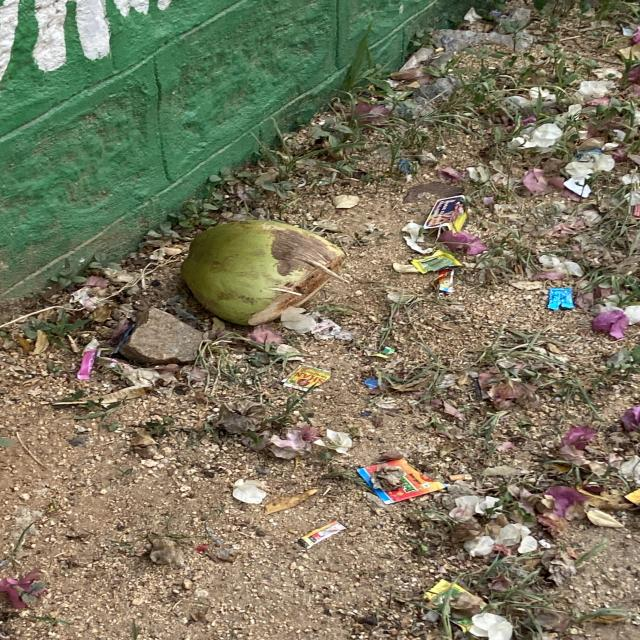biowaste: (180, 219, 345, 326)
wrapper: (357, 460, 445, 505), (423, 194, 467, 232), (297, 522, 346, 550), (282, 365, 330, 392), (411, 250, 462, 273), (548, 288, 575, 310)
